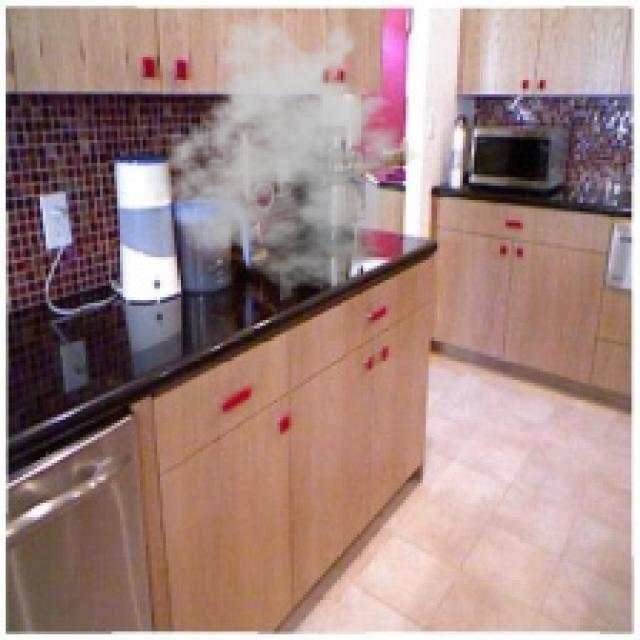smoke: (154, 15, 437, 292)
